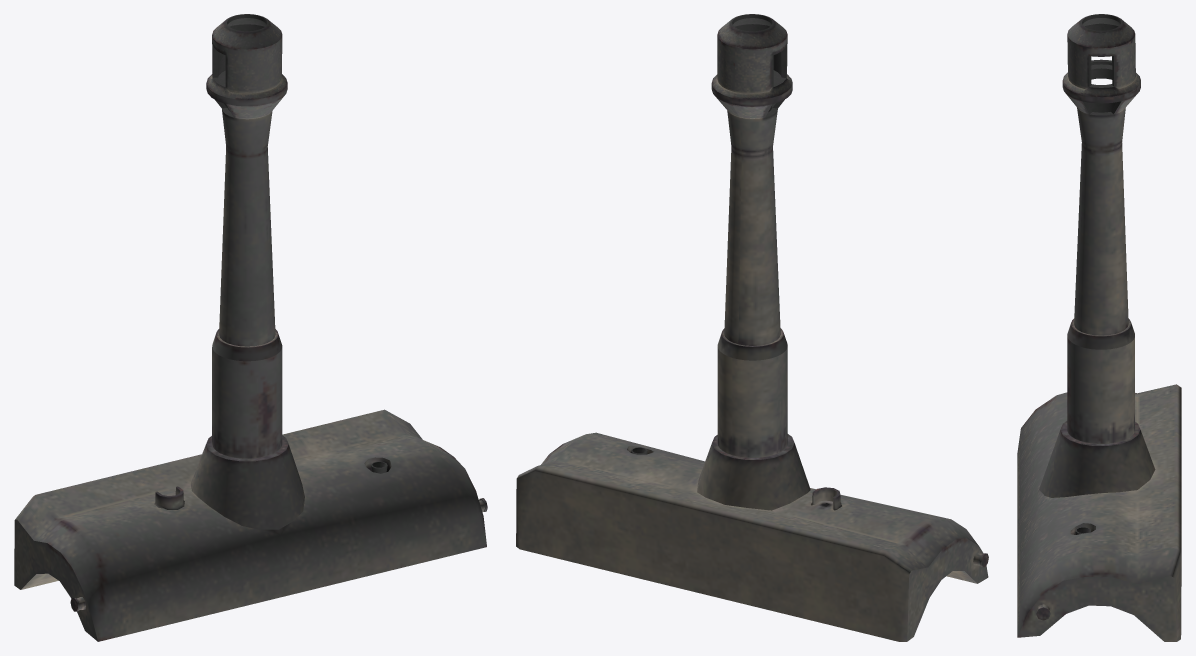
The model's file is Gun_06.glb.
The picture shows the model from 3 angles, left to right: view 1: azimuth 30°, elevation 25°; view 2: azimuth 150°, elevation 25°; view 3: azimuth 270°, elevation 25°; orthographic projection. The views are drawn at different scales.
Parts seen in each view (by area): view 1: set_0_group_0; view 2: set_0_group_0; view 3: set_0_group_0.
Part boxes in pixels (x1=…): set_0_group_0: x1=14, y1=14, x2=487, y2=641; set_0_group_0: x1=516, y1=14, x2=988, y2=641; set_0_group_0: x1=1017, y1=14, x2=1181, y2=641.
Size of the model in its own units: 1.76 by 2.23 by 0.6316.
1 material, 1 textured.
